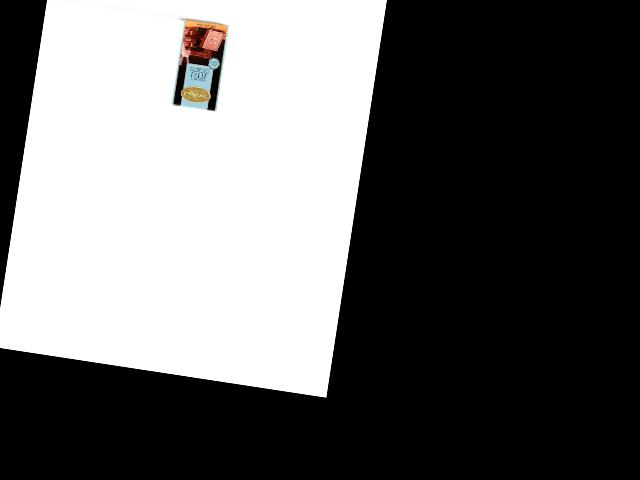chocolate: (169, 17, 230, 112)
